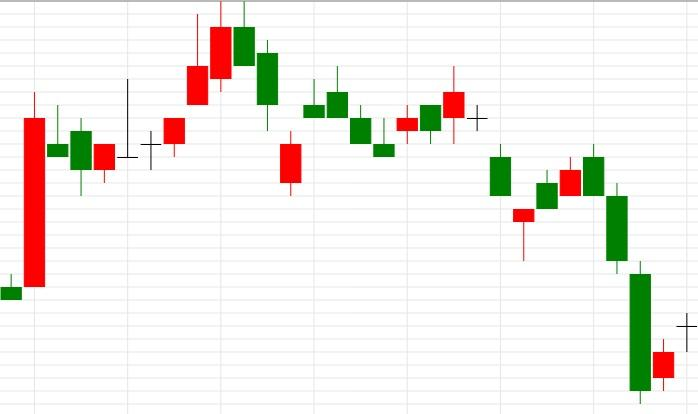bearish_engulfing_fall: (512, 144, 605, 261)
hammer_rise: (442, 66, 535, 261)
inverse_hammer_rise: (327, 66, 396, 158)
three_black_crows_fall: (512, 144, 652, 405), (279, 65, 396, 196)
